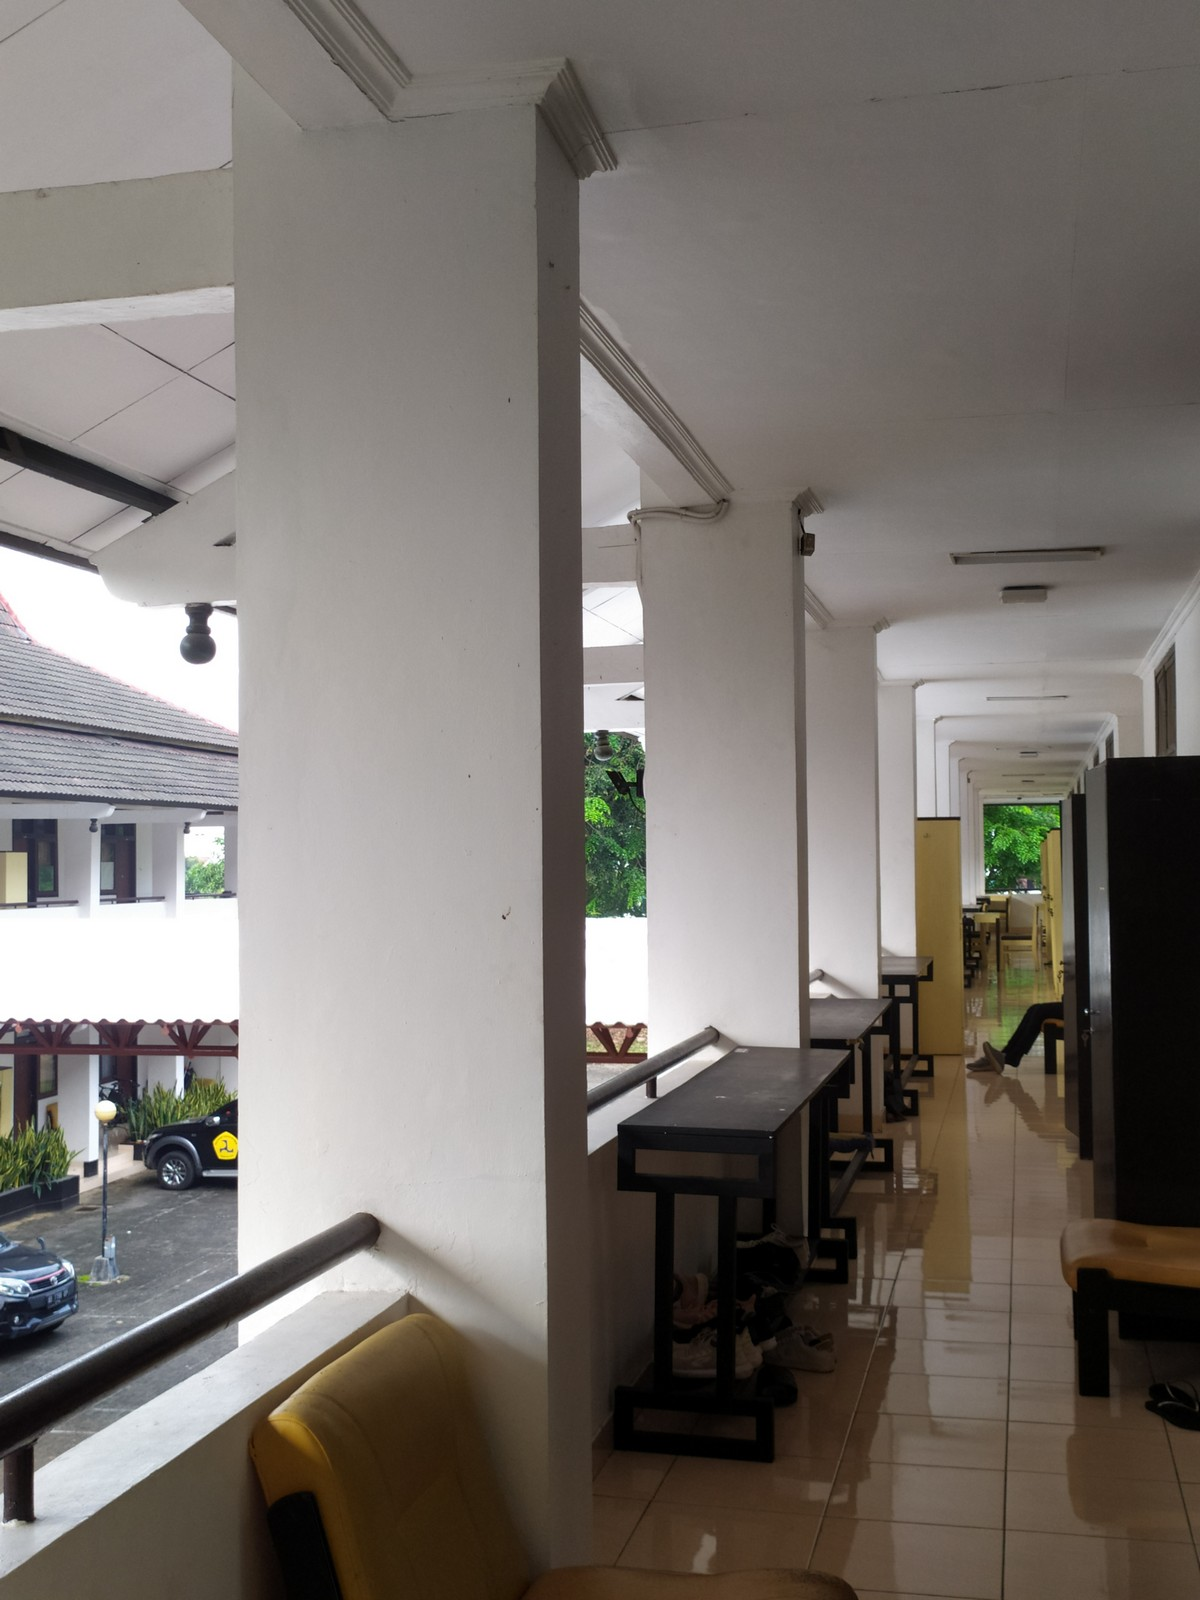concrete beam: (11, 165, 258, 341)
concrete column: (229, 110, 604, 1565), (630, 486, 818, 1075), (53, 813, 106, 929), (55, 1051, 103, 1177)
